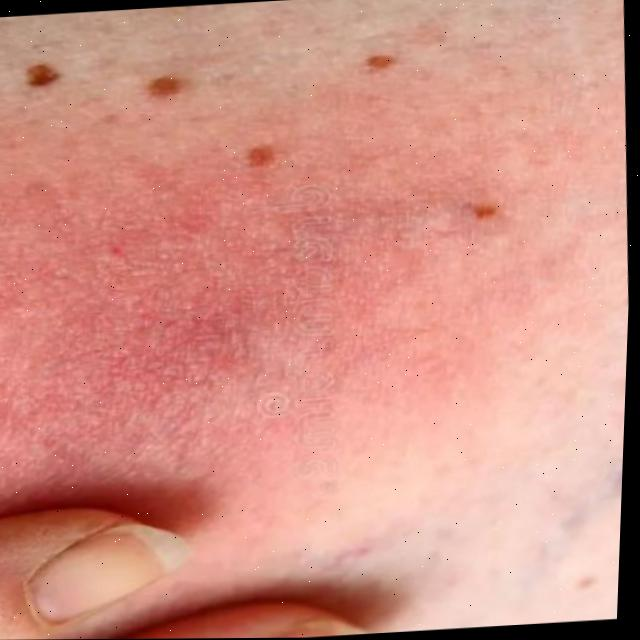Eczema: (0, 46, 474, 400)
